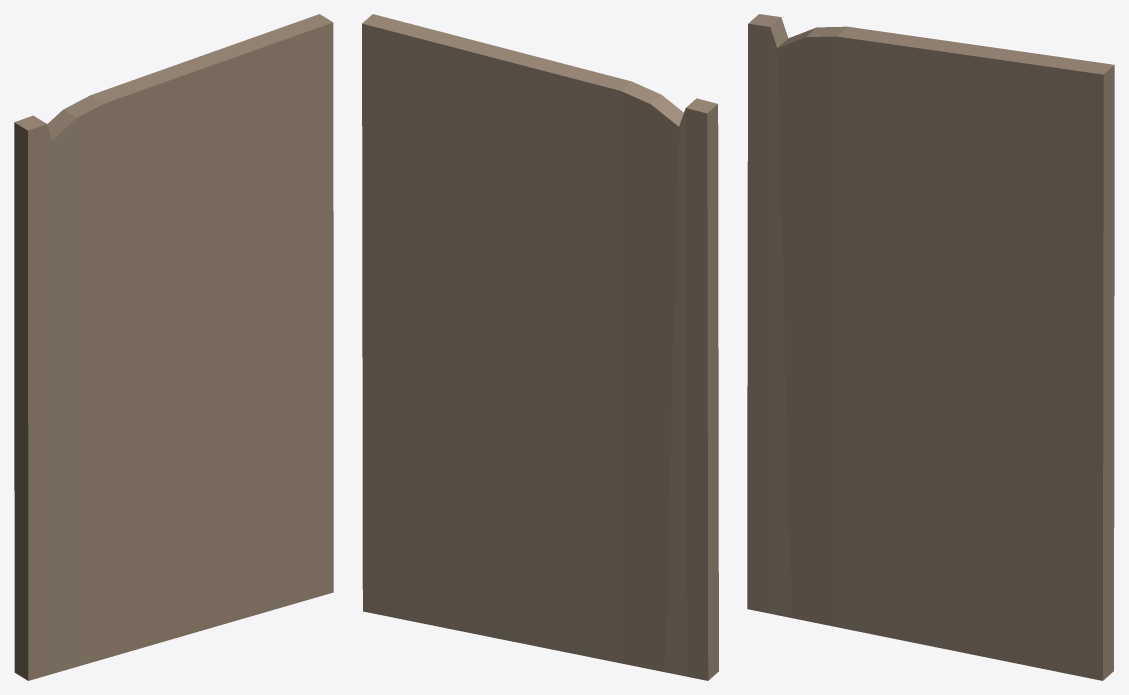
3 views of the same model, side by side, from view 1: azimuth 30°, elevation 25°; view 2: azimuth 150°, elevation 25°; view 3: azimuth 330°, elevation 25° (orthographic). The views are drawn at different scales.
Visible parts, largest first — view 1: Plane.002; view 2: Plane.002; view 3: Plane.002.
Boxes of the visible parts, bbox=[...] form: Plane.002: bbox=[14, 14, 333, 680]; Plane.002: bbox=[362, 14, 718, 680]; Plane.002: bbox=[747, 14, 1114, 680].
Bounding box in the file's own units: 1.21 × 2.04 × 0.1761.
